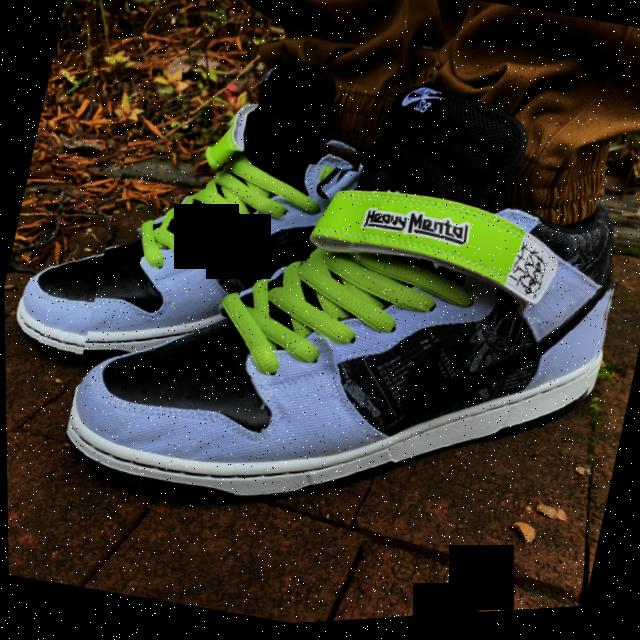shoe: (50, 111, 632, 596), (4, 72, 367, 412)
